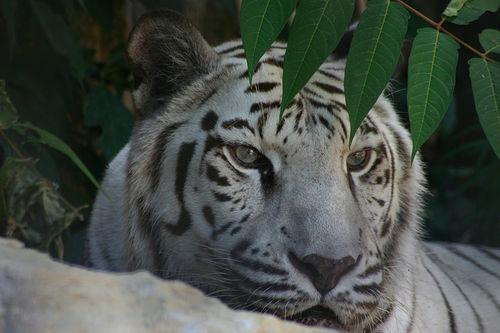Tigre: (112, 24, 430, 319)
